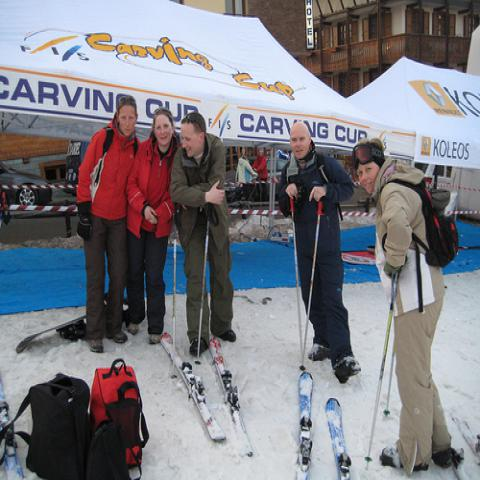car: (0, 160, 53, 206)
